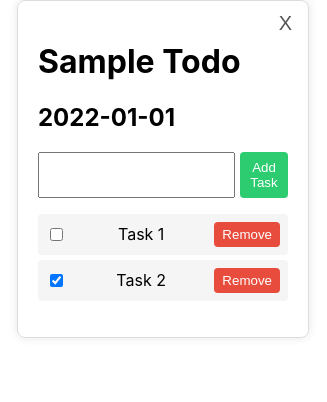
TodoTemplate Component Test › Add Task 버튼 클릭 시 추가된 Task가 올바르게 렌더링 된다.
# 새로운 Task 추가
Type "New Task" into the field at (136, 175), box [38,152,235,198]
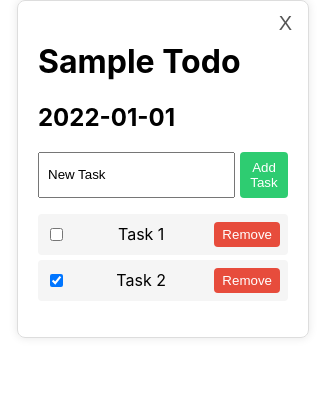
Click the button "Add Task" at (264, 175), box [240,152,288,198]
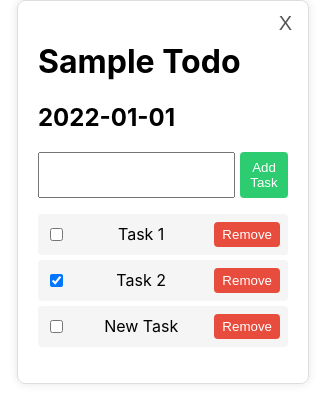
Now the list item "New Task" is shown, box [104,316,178,336]
